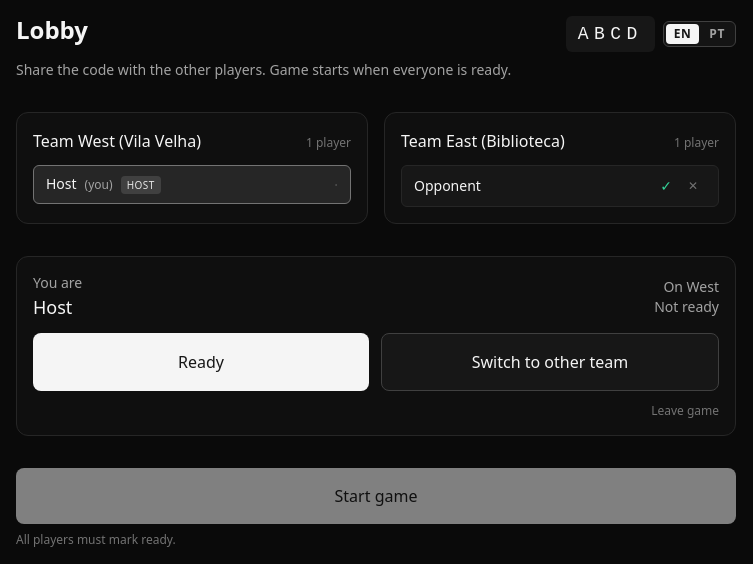
Test: Lobby › applies the ready response locally without waiting for Realtime
Click the button "Ready".
click(201, 362)  # box [33,333,369,391]
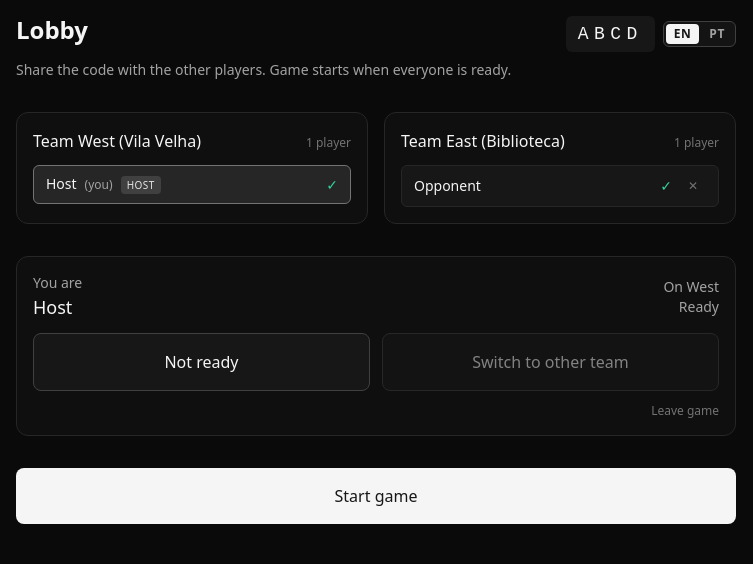
Check: the button "Not ready" is shown, box [33,333,370,391]
Check: the button "Start game" is enabled, box [16,468,736,524]
